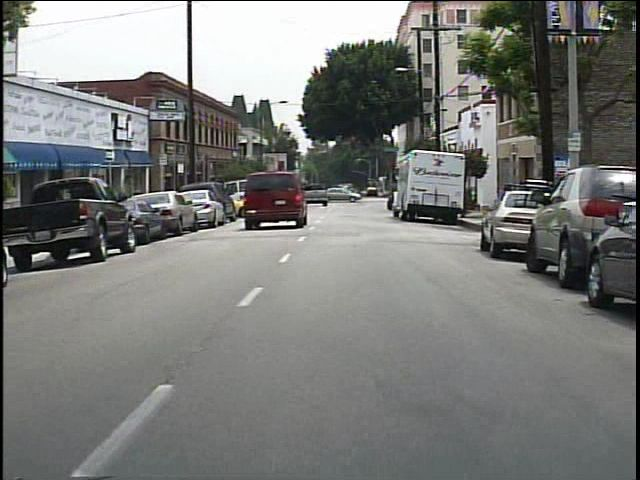car: (14, 173, 137, 261), (529, 160, 600, 283), (569, 184, 640, 307), (471, 180, 530, 256), (237, 171, 309, 230), (135, 197, 166, 245), (165, 190, 198, 230), (190, 187, 223, 227)
